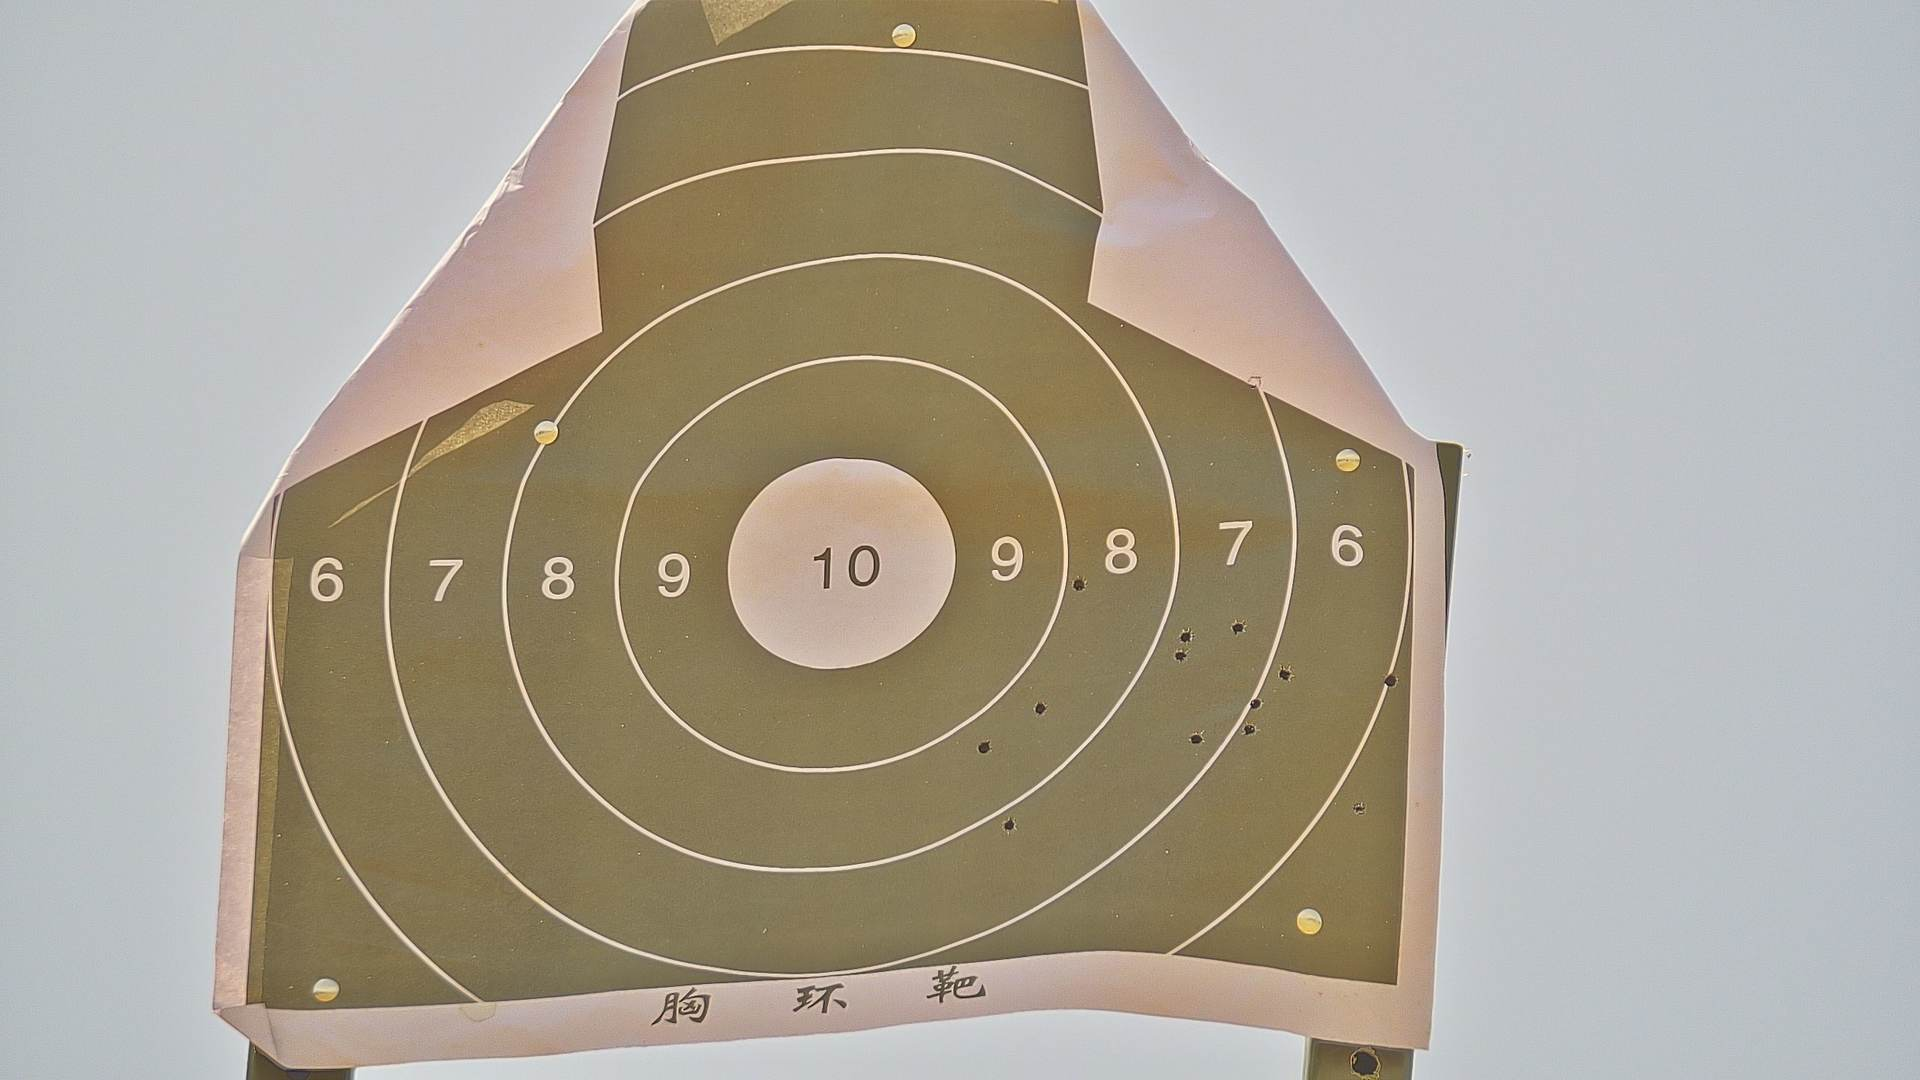hole: (1232, 620, 1246, 636), (1069, 578, 1087, 591), (1033, 700, 1047, 715), (1189, 732, 1204, 746), (1385, 673, 1398, 687), (978, 741, 992, 754), (1352, 800, 1365, 814), (1004, 819, 1015, 833), (1180, 629, 1192, 644), (1279, 667, 1291, 680), (1249, 698, 1262, 709), (1175, 649, 1185, 663), (1244, 723, 1255, 735)
kernel: (837, 568, 844, 572)
target: (244, 5, 1415, 1007)
ten: (721, 451, 959, 678)
